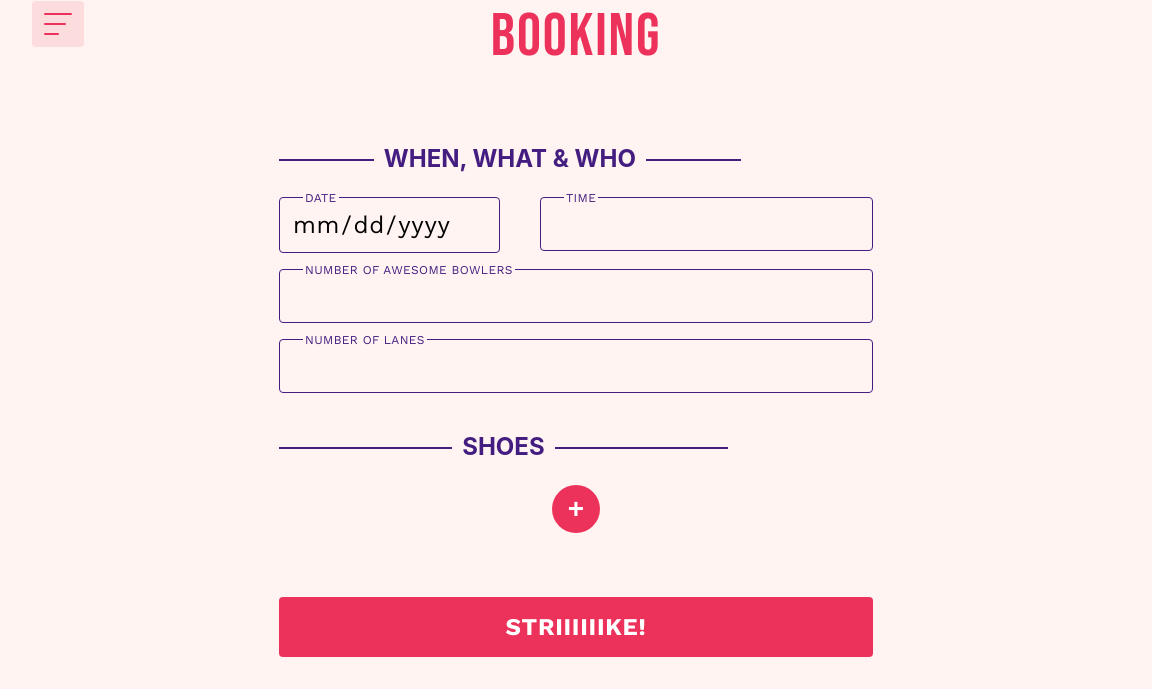
Test: Booking › should show error message when fields are empty
The width and height of the screenshot is (1152, 689).
(page scrolled)
Click the button "strIIIIIike!": (576, 627) [279,597,873,657]
(page scrolled)
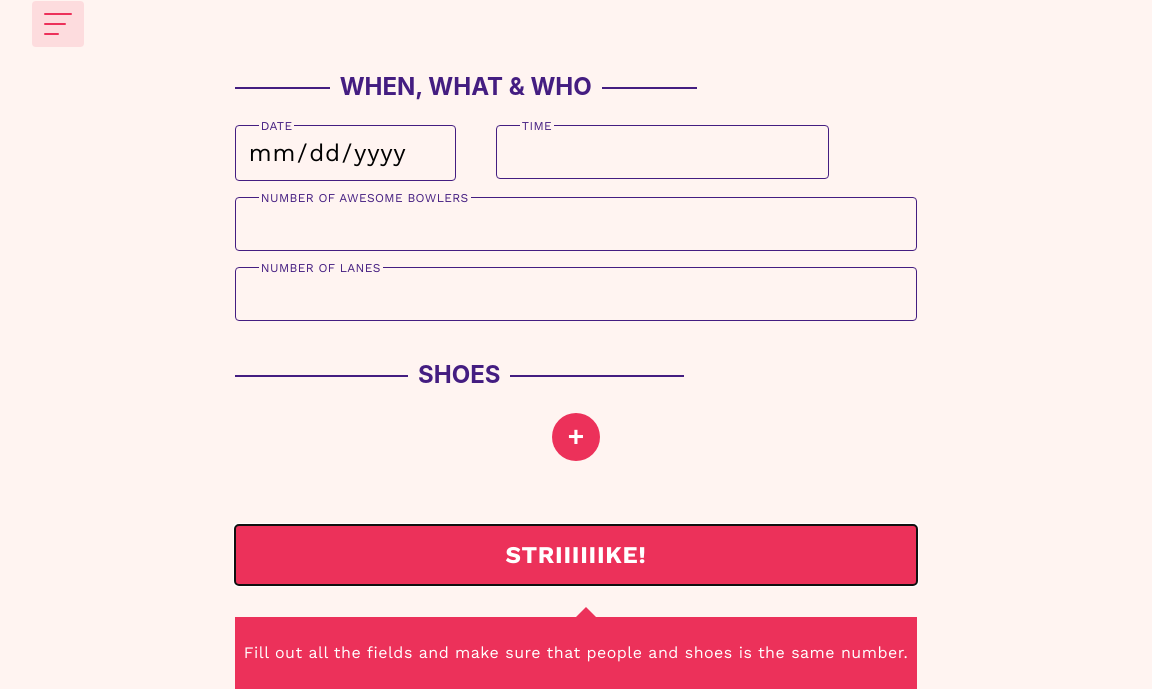
Now the text "Fill out all the fields and make sure that people and shoes is the same number." is shown, box [244,642,908,664]
